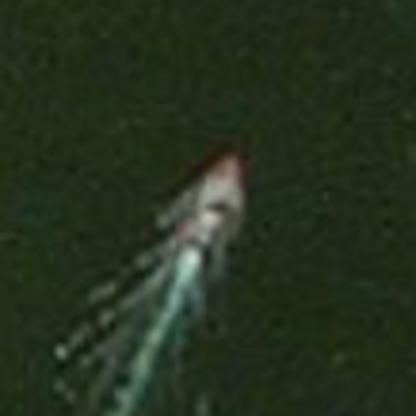ship: (150, 140, 250, 286)
